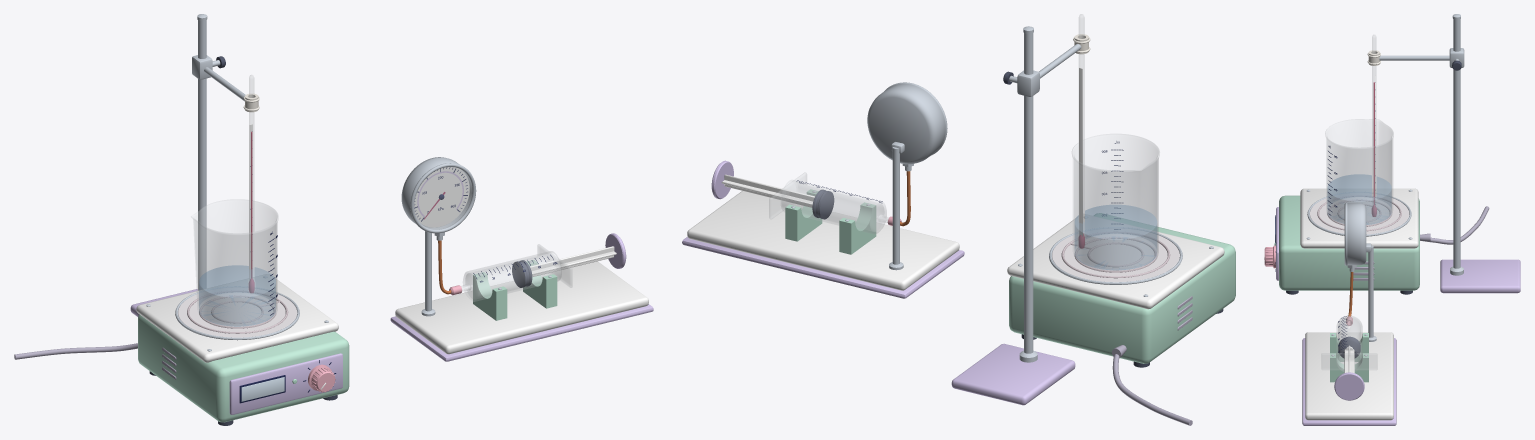
The model's file is particles-apparatus.glb.
3 renders of one model, left to right at view 1: azimuth 30°, elevation 25°; view 2: azimuth 150°, elevation 25°; view 3: azimuth 270°, elevation 25°, orthographic. The views are drawn at different scales.
Visible parts, largest first — view 1: SYRINGE_BOARD, BEAKER_GLASS, HOTPLATE_BODY, HOTPLATE_TOP, WATER_VOLUME, CERAMIC_PLATE, BARREL_GLASS, GAUGE_LENS, CONTROL_FASCIA, GAUGE_DIAL, STAND_ROD, SYRINGE_CRADLES (+11 smaller); view 2: HOTPLATE_BODY, SYRINGE_BOARD, BEAKER_GLASS, HOTPLATE_TOP, WATER_VOLUME, GAUGE_CASE, STAND_BASE, CERAMIC_PLATE, STAND_ROD, BARREL_GLASS, SYRINGE_CRADLES, SYRINGE_PLINTH (+11 smaller); view 3: HOTPLATE_BODY, BEAKER_GLASS, SYRINGE_BOARD, HOTPLATE_TOP, STAND_BASE, WATER_VOLUME, CERAMIC_PLATE, STAND_ROD, GAUGE_CASE, SYRINGE_PLINTH, BARREL_GLASS, SYRINGE_CRADLES (+10 smaller).
Part boxes in pixels (x1=…): SYRINGE_BOARD: x1=395, y1=261, x2=648, y2=354; BEAKER_GLASS: x1=191, y1=199, x2=278, y2=327; HOTPLATE_BODY: x1=138, y1=314, x2=349, y2=422; HOTPLATE_TOP: x1=136, y1=274, x2=338, y2=362; WATER_VOLUME: x1=199, y1=265, x2=275, y2=326; CERAMIC_PLATE: x1=178, y1=287, x2=297, y2=337; BARREL_GLASS: x1=463, y1=251, x2=561, y2=301; GAUGE_LENS: x1=414, y1=167, x2=471, y2=229; CONTROL_FASCIA: x1=229, y1=353, x2=342, y2=414; GAUGE_DIAL: x1=414, y1=167, x2=469, y2=227; STAND_ROD: x1=197, y1=14, x2=207, y2=290; SYRINGE_CRADLES: x1=473, y1=260, x2=557, y2=320; HOTPLATE_BODY: x1=1009, y1=213, x2=1235, y2=363; SYRINGE_BOARD: x1=687, y1=191, x2=959, y2=290; BEAKER_GLASS: x1=1072, y1=134, x2=1159, y2=271; HOTPLATE_TOP: x1=1007, y1=214, x2=1224, y2=309; WATER_VOLUME: x1=1075, y1=205, x2=1156, y2=270; GAUGE_CASE: x1=867, y1=83, x2=945, y2=164; STAND_BASE: x1=951, y1=343, x2=1075, y2=405; CERAMIC_PLATE: x1=1052, y1=228, x2=1179, y2=282; STAND_ROD: x1=1019, y1=26, x2=1037, y2=362; BARREL_GLASS: x1=781, y1=180, x2=886, y2=233; SYRINGE_CRADLES: x1=785, y1=189, x2=876, y2=254; SYRINGE_PLINTH: x1=682, y1=237, x2=964, y2=298; HOTPLATE_BODY: x1=1279, y1=195, x2=1419, y2=290; BEAKER_GLASS: x1=1325, y1=119, x2=1393, y2=225; SYRINGE_BOARD: x1=1305, y1=332, x2=1393, y2=420; HOTPLATE_TOP: x1=1300, y1=188, x2=1418, y2=248; STAND_BASE: x1=1440, y1=259, x2=1520, y2=293; WATER_VOLUME: x1=1327, y1=174, x2=1391, y2=224; CERAMIC_PLATE: x1=1309, y1=193, x2=1409, y2=234; STAND_ROD: x1=1450, y1=14, x2=1463, y2=275; GAUGE_CASE: x1=1347, y1=203, x2=1366, y2=265; SYRINGE_PLINTH: x1=1302, y1=338, x2=1396, y2=425; BARREL_GLASS: x1=1336, y1=316, x2=1362, y2=371; SYRINGE_CRADLES: x1=1330, y1=333, x2=1368, y2=382.
Size of the model in its own units: 0.7607 by 0.4365 by 0.382.
